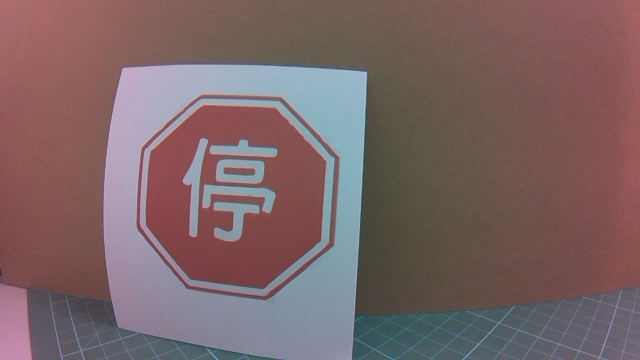stop: (158, 95, 344, 301)
